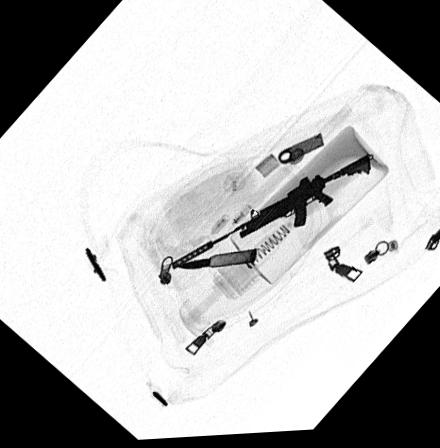Bullet: (176, 251, 257, 272)
Gun: (170, 157, 372, 272)
